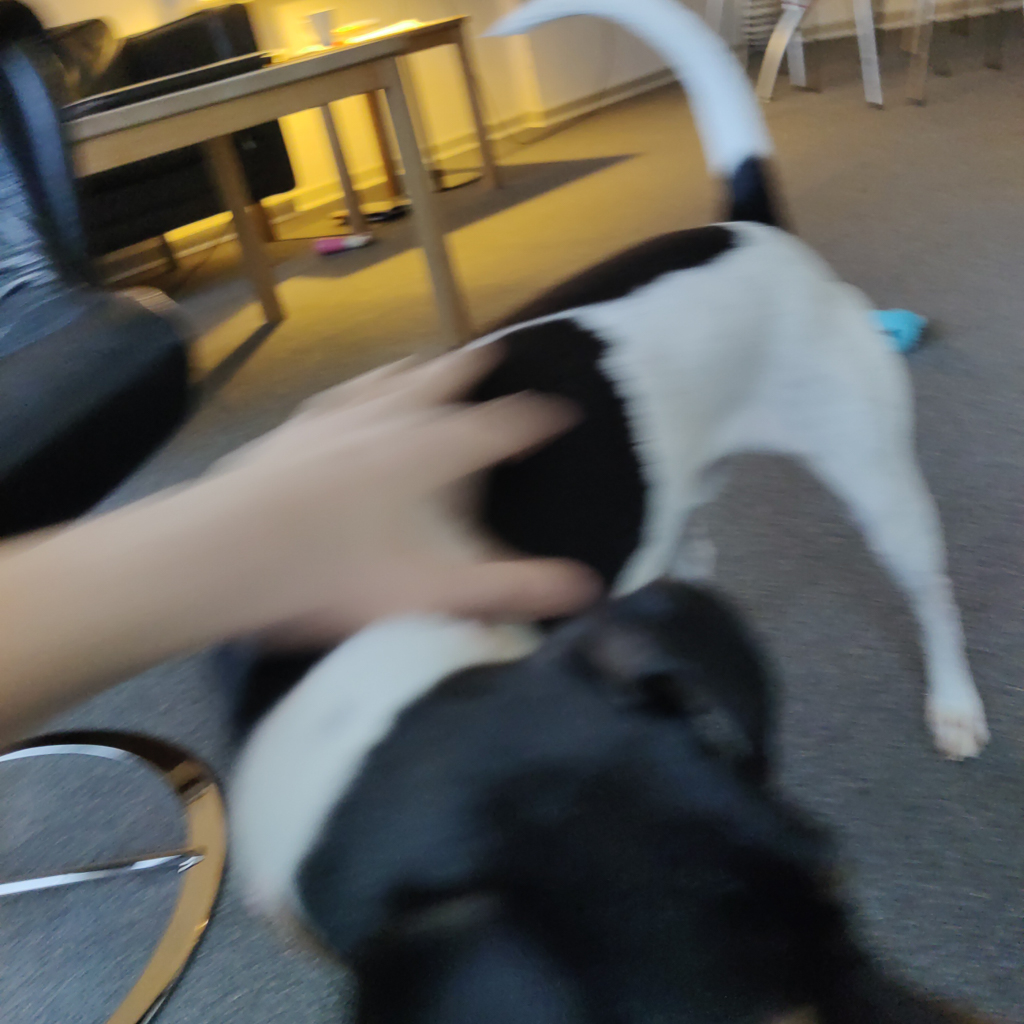Dog: (146, 0, 1012, 1024)
Humanoid: (0, 310, 642, 780)
